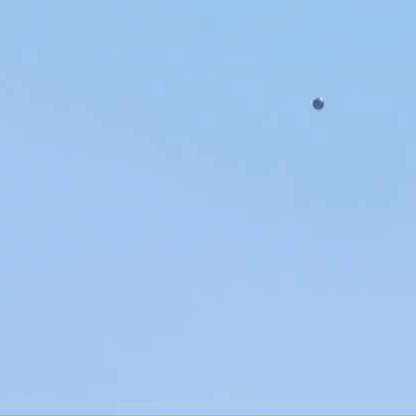golfball: (308, 96, 321, 107)
